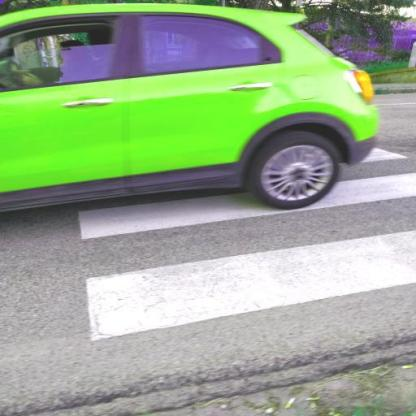crosswalk: (57, 135, 416, 252)
